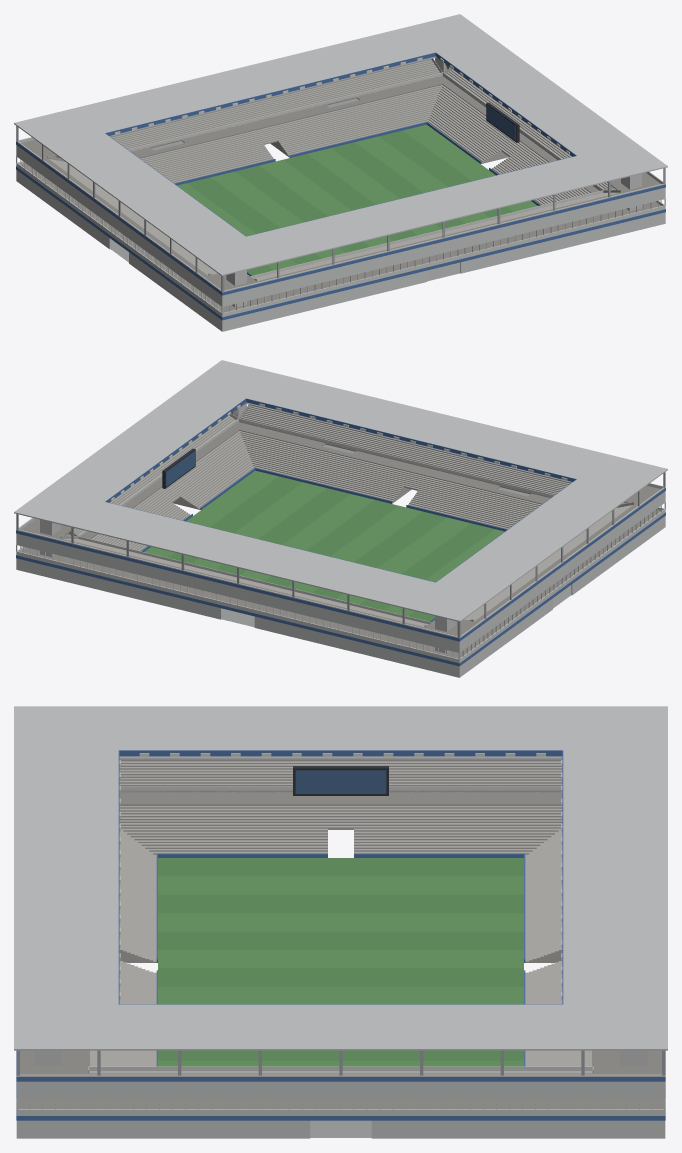
The model's file is arena.arena-v1.lod1.glb.
The picture shows the model from 3 angles, top to bottom: view 1: azimuth 30°, elevation 25°; view 2: azimuth 150°, elevation 25°; view 3: azimuth 270°, elevation 25°; orthographic projection. The views are drawn at different scales.
Parts seen in each view (by area): view 1: arena; view 2: arena; view 3: arena.
Part boxes in pixels (bbox=[...]): arena: bbox=[14, 14, 667, 331]; arena: bbox=[14, 360, 667, 677]; arena: bbox=[14, 706, 667, 1138].
Bounding box in the file's own units: 186 × 23.05 × 150.
